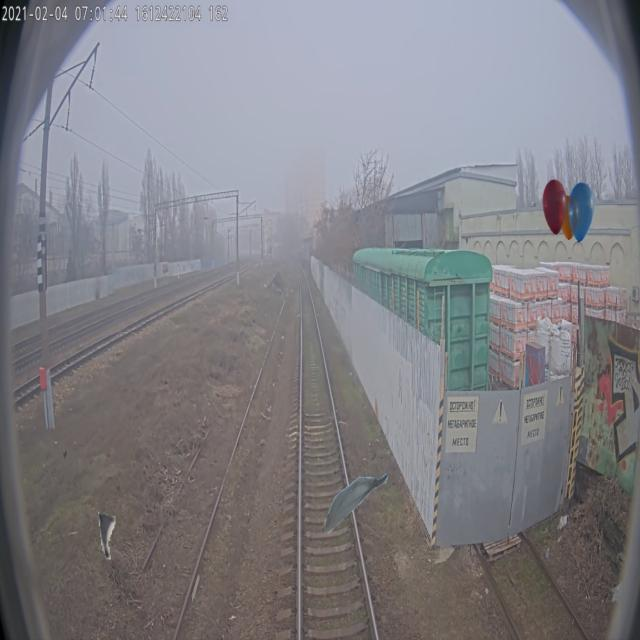balloon: (542, 178, 595, 242)
floating object: (321, 471, 388, 535), (97, 497, 115, 561)
